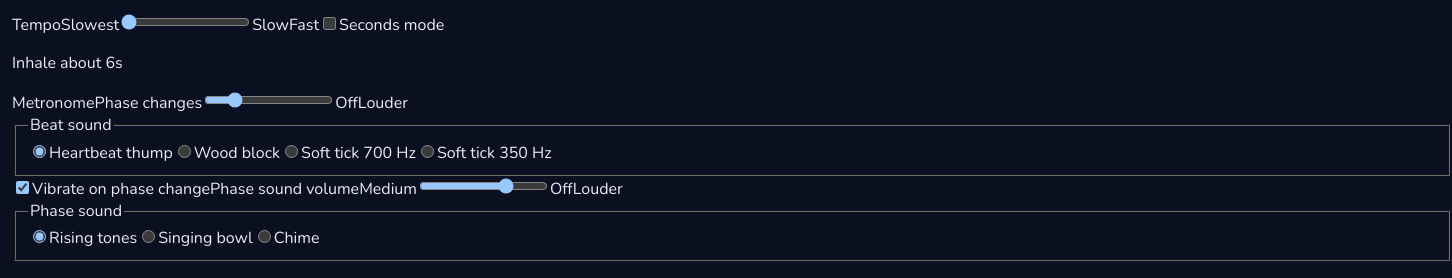
Test: seconds mode › is off by default and flips the store when toggled (AC1)
The image size is (1452, 278).
Expected: the slider labelled "Tempo" is enabled, [121,14,250,30]
Click the switch labelled "Seconds mode".
click(330, 24)  # box [323,17,336,30]
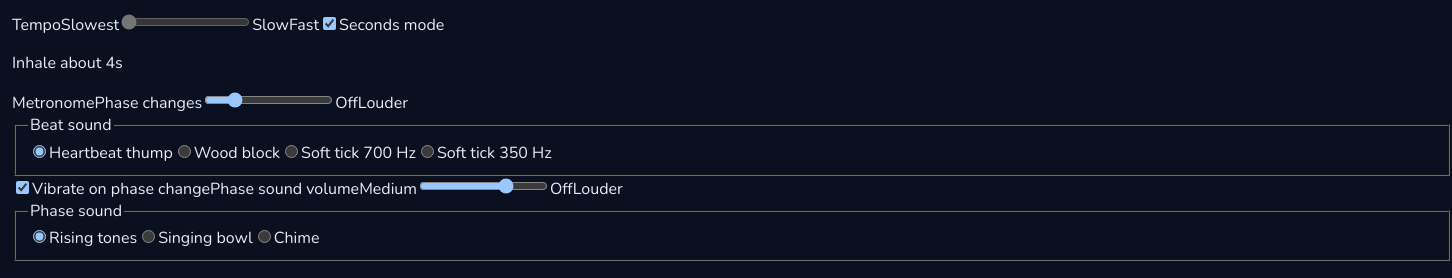
Expected: the switch labelled "Seconds mode" is checked, [323,17,336,30]
Expected: the text "Inhale about 4s" is shown, [12,52,123,74]
